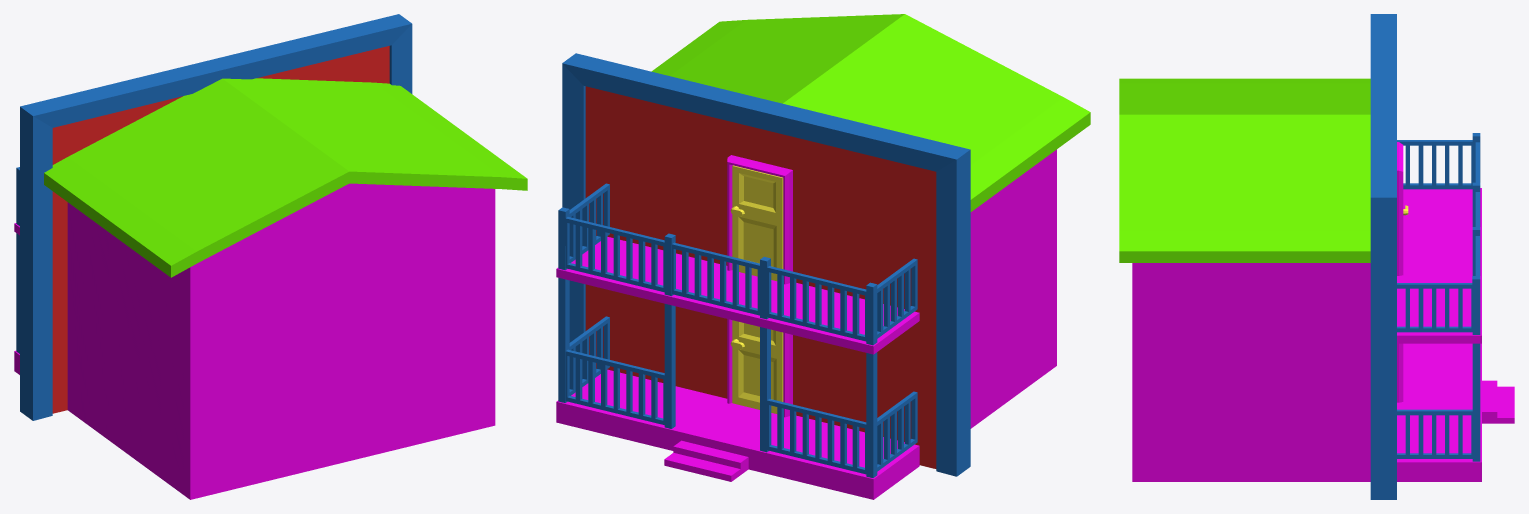
The model's file is House_One.fbx.
The picture shows the model from 3 angles, left to right: view 1: azimuth 30°, elevation 25°; view 2: azimuth 150°, elevation 25°; view 3: azimuth 270°, elevation 25°; orthographic projection. The views are drawn at different scales.
Visible parts, largest first — view 1: Backhouse, Frame, Post; view 2: Frame, Backhouse, PlatformsAndStair, Fence, Post, DoorTop, DoorBottom, DoorFrameTop, DoorFrameBottom; view 3: Backhouse, PlatformsAndStair, Frame, Fence, Post, DoorFrameTop.
Boxes of the visible parts, x1,y1,x2,y2 form: Backhouse: (44,78,527,499); Frame: (20,14,412,420); Post: (16,167,19,353); Frame: (562,53,970,476); Backhouse: (651,14,1090,428); PlatformsAndStair: (556,236,919,499); Fence: (565,183,917,474); Post: (558,207,877,477); DoorTop: (730,165,783,281); DoorBottom: (730,320,783,413); DoorFrameTop: (727,155,792,284); DoorFrameBottom: (727,319,792,417); Backhouse: (1119,78,1370,481); PlatformsAndStair: (1397,188,1514,481); Frame: (1370,14,1396,499); Fence: (1397,140,1479,458); Post: (1472,133,1480,461); DoorFrameTop: (1397,142,1403,275).
Bounding box in the file's own units: 9.95 × 7.64 × 9.05.
